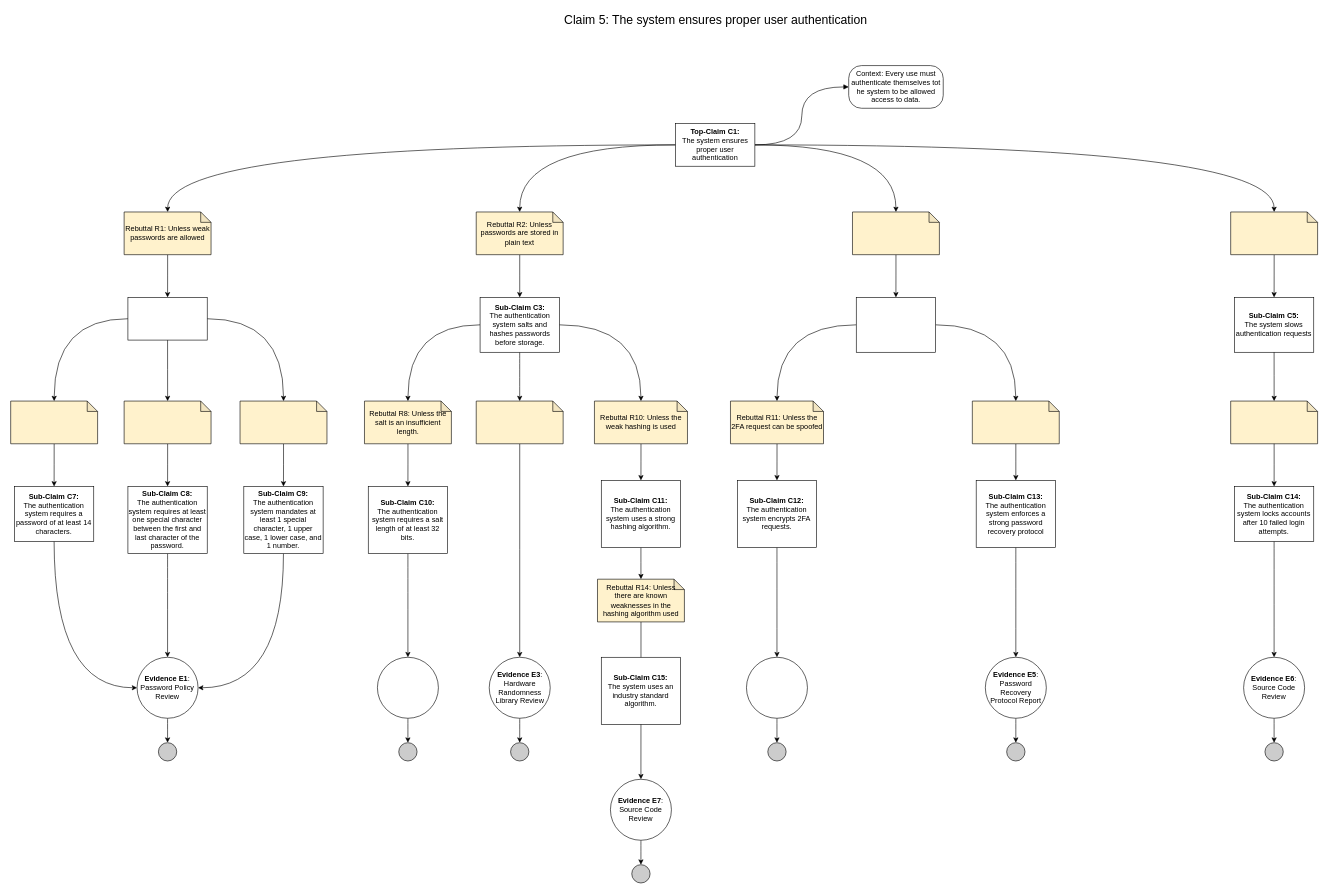
This 1329x894 diagram has some shape labels left out. Each missing label, with the centre of its shape:
Evidence E2 : Source Code Review: point (407, 687)
Evidence E4 : 2FA Policy Review: point (776, 687)
Rebuttal R12: Unless account recovery allows 2FA bypasses.: point (1015, 422)
Rebuttal R13: Unless an attacker uses multiple connections.: point (1274, 422)
Rebuttal R3: Unless two factor authentication is not used: point (895, 233)
Rebuttal R4: Unless brute forcing is allowed: point (1274, 233)
Rebuttal R5: Unless short passwords are allowed: point (54, 422)
Rebuttal R6: Unless a single plain dictionary word is accepted: point (167, 422)
Rebuttal R7: Unless passwords do not contain enough character diversity.: point (283, 422)
Rebuttal R9: Unless the salt lacks sufficient entropy: point (519, 422)
Sub-Claim C2: The authentication system enforces a strong password policy: point (167, 318)
Sub-Claim C4: The authentication system implements two factor authentication.: point (896, 324)
